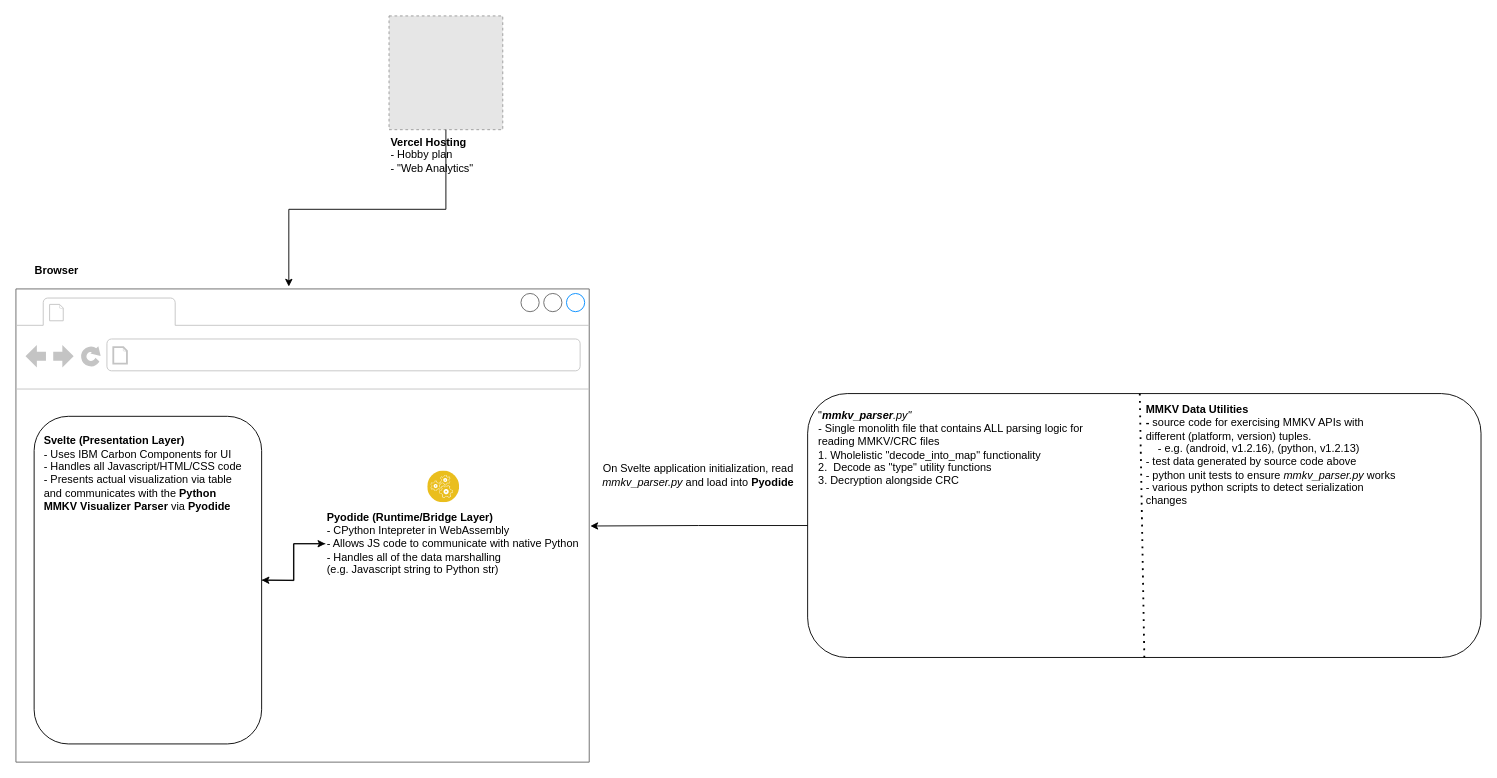
This 1497x778 diagram has some shape labels left out. Grey dashed boxes stand in for pictures. The shapes that lost their labels are listed below. From the top down, each one's centre as x and y in pixels, then its label:
At point (120, 311): "Page 1".
At point (247, 355): "mmkv-visualizer.com".
